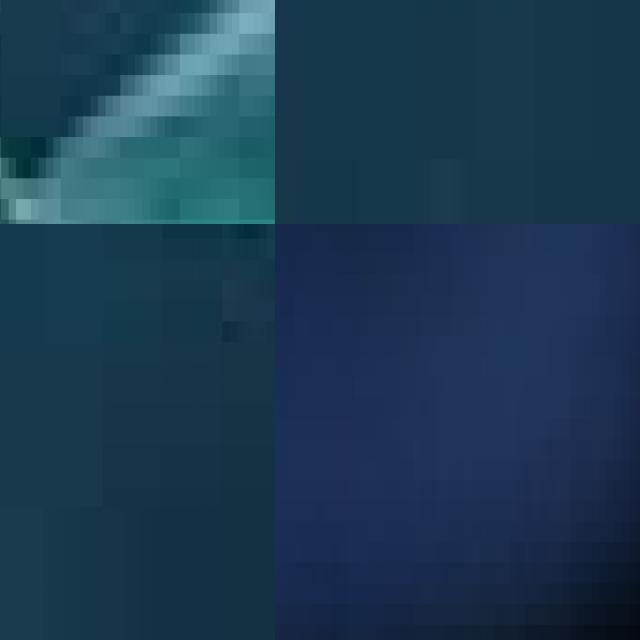fish: (275, 224, 640, 640), (0, 0, 275, 224)
